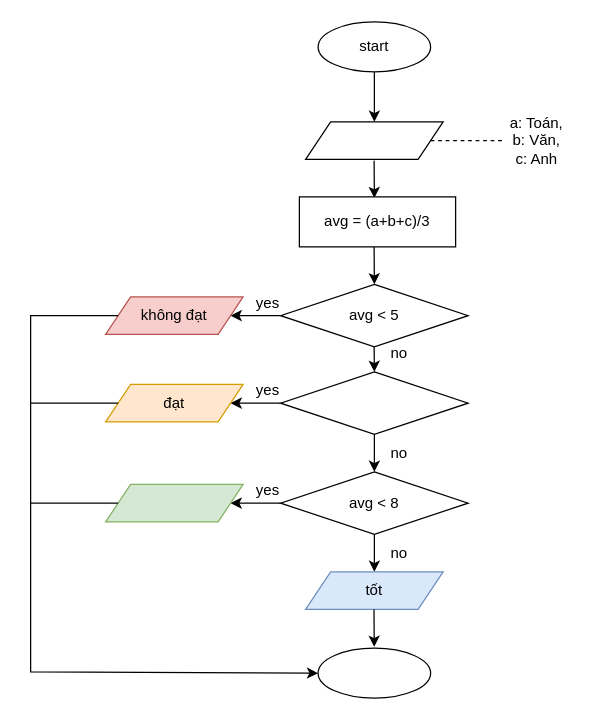
Some shapes in this 590 by 720 pixel diagram are drawn without their labels. The shapes that lost their labels are listed below. From the top down, each one's centre as x and y in pixels, then its label:
the point at 373,140: input a, b, c
the point at 373,402: avg < 7
the point at 173,502: khá
the point at 374,672: end
